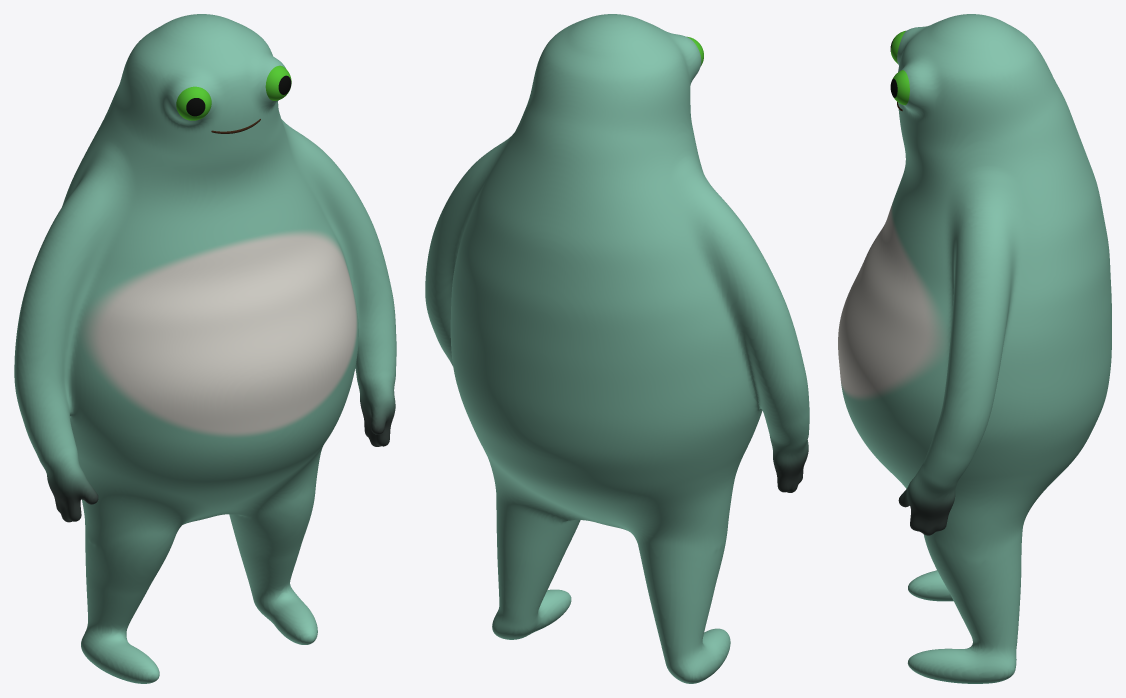
Rendered from naiwa_mint.glb.
3 views of the same model, side by side, from view 1: azimuth 30°, elevation 25°; view 2: azimuth 150°, elevation 25°; view 3: azimuth 270°, elevation 25° (orthographic). The views are drawn at different scales.
Parts seen in each view (by area): view 1: Body, Eye_R, Eye_L; view 2: Body; view 3: Body, Eye_L.
Part boxes in pixels (left/top/right/bottom): Body: left=14, top=14, right=396, bottom=683; Eye_R: left=176, top=86, right=211, bottom=120; Eye_L: left=265, top=65, right=291, bottom=100; Body: left=425, top=14, right=809, bottom=683; Body: left=838, top=14, right=1111, bottom=683; Eye_L: left=890, top=70, right=909, bottom=105.
Size of the model in its own units: 1.24 by 2 by 0.8055.
